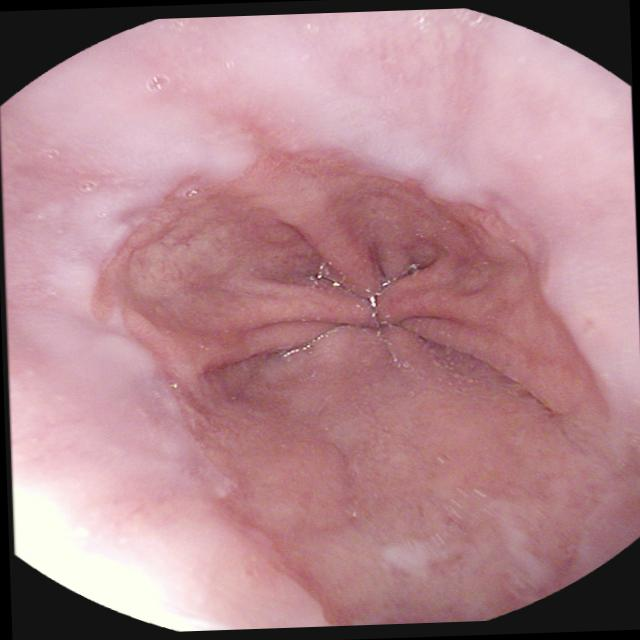esophagitis: (70, 125, 640, 629)
